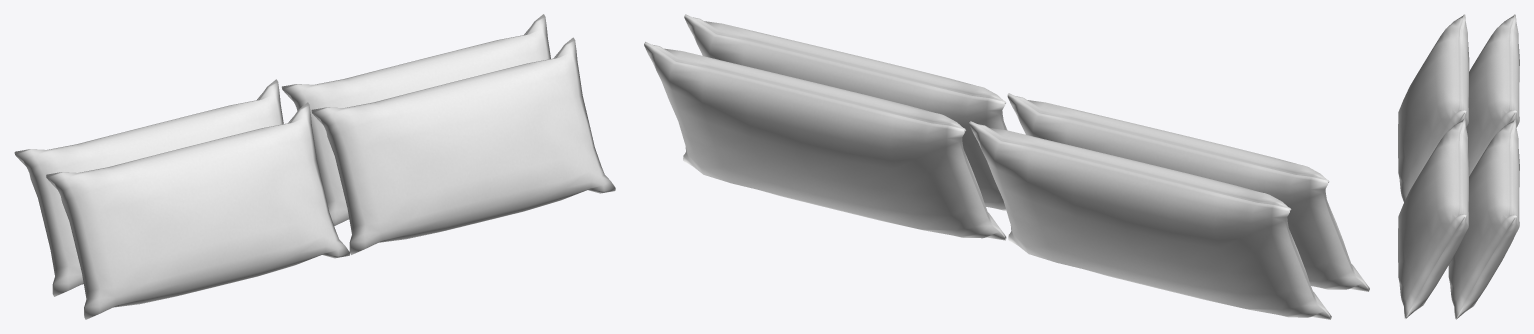
File: Pillow.fbx
3 views of the same model, side by side, from view 1: azimuth 30°, elevation 25°; view 2: azimuth 150°, elevation 25°; view 3: azimuth 270°, elevation 25° (orthographic). The views are drawn at different scales.
Visible parts, largest first — view 1: prop_Pillow, prop_Pillow1, prop_Pillow2, prop_Pillow3; view 2: prop_Pillow2, prop_Pillow3, prop_Pillow1, prop_Pillow; view 3: prop_Pillow, prop_Pillow3, prop_Pillow1, prop_Pillow2.
Part boxes in pixels (x1,y1,x2,y2): prop_Pillow: [311, 37, 615, 254]; prop_Pillow1: [46, 102, 349, 319]; prop_Pillow2: [14, 79, 283, 296]; prop_Pillow3: [281, 14, 550, 225]; prop_Pillow2: [969, 121, 1331, 319]; prop_Pillow3: [644, 41, 1006, 240]; prop_Pillow1: [1007, 93, 1369, 291]; prop_Pillow: [684, 14, 1007, 210]; prop_Pillow: [1398, 118, 1469, 318]; prop_Pillow3: [1448, 119, 1519, 319]; prop_Pillow1: [1398, 14, 1469, 202]; prop_Pillow2: [1466, 14, 1519, 176].
Size of the model in its own units: 144 by 33.05 by 35.39.
